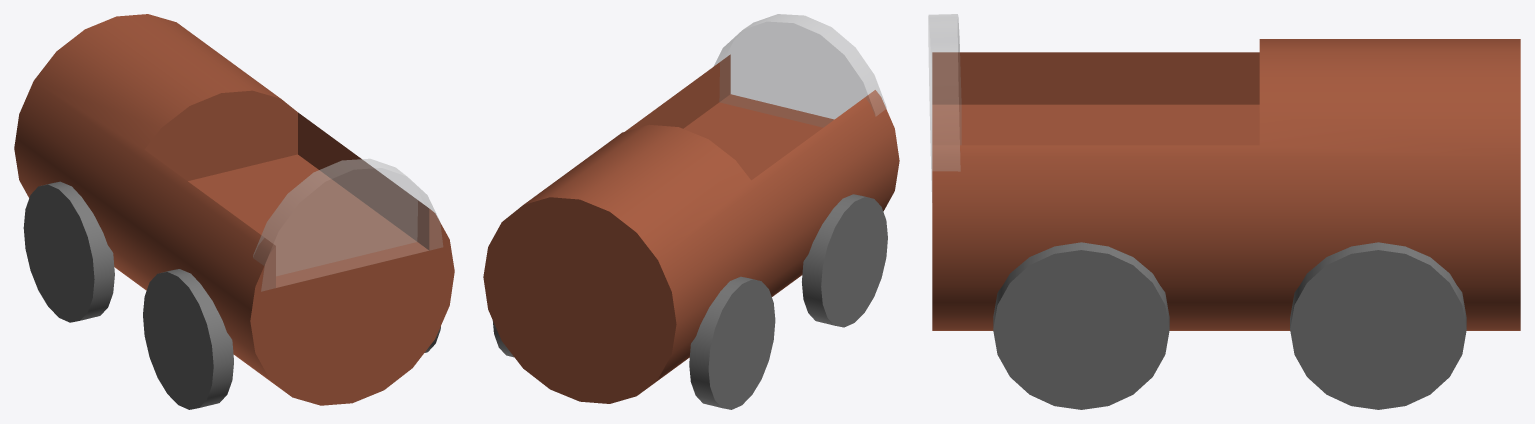
The model's file is Car_model.fbx.
3 views of the same model, side by side, from view 1: azimuth 30°, elevation 25°; view 2: azimuth 150°, elevation 25°; view 3: azimuth 270°, elevation 25° (orthographic). The views are drawn at different scales.
Visible parts, largest first — view 1: pCylinder6, pCylinder7, pCylinder4, pCylinder5; view 2: pCylinder6, pCylinder7, pCylinder4, pCylinder5; view 3: pCylinder6, pCylinder3, pCylinder2, pCylinder7.
Boxes of the visible parts, x1,y1,x2,y2 form: pCylinder6: (14, 14, 454, 405); pCylinder7: (253, 158, 442, 291); pCylinder4: (23, 181, 114, 322); pCylinder5: (143, 269, 233, 409); pCylinder6: (483, 54, 899, 403); pCylinder7: (714, 14, 886, 127); pCylinder4: (689, 276, 775, 409); pCylinder5: (802, 194, 887, 327); pCylinder6: (932, 39, 1520, 330); pCylinder3: (1290, 242, 1466, 409); pCylinder2: (993, 242, 1169, 409); pCylinder7: (928, 14, 961, 202).
Bounding box in the file's own units: 2.24 × 2.37 × 4.03.
